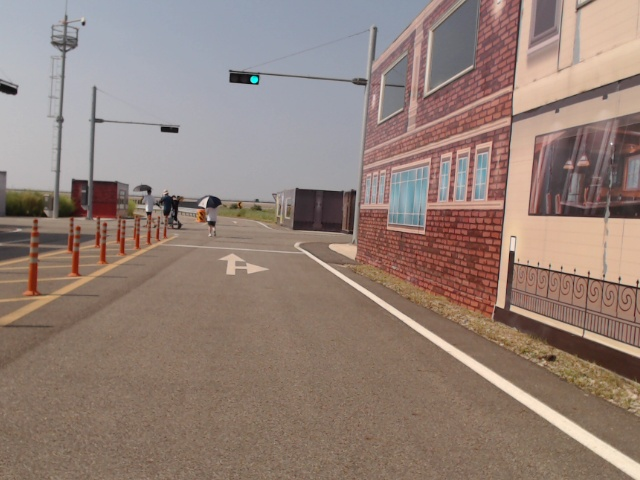green_3: (229, 72, 259, 85)
